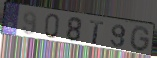0: (44, 13, 61, 40)
8: (66, 17, 83, 43)
9: (22, 10, 39, 36), (109, 24, 127, 48)
G: (130, 25, 152, 53)
T: (89, 19, 106, 46)
